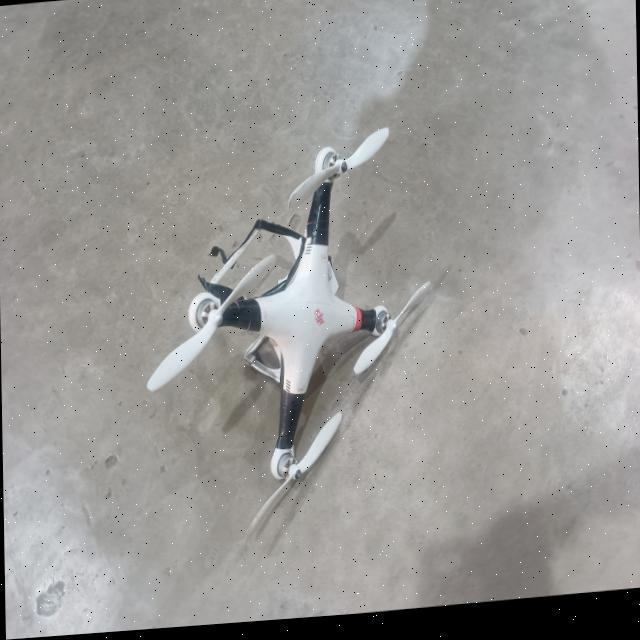drone: (133, 109, 460, 514)
